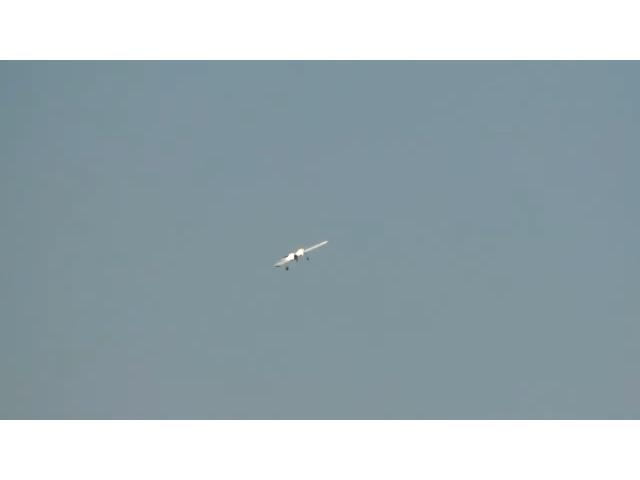Anti-Drone: (274, 242, 326, 266)
